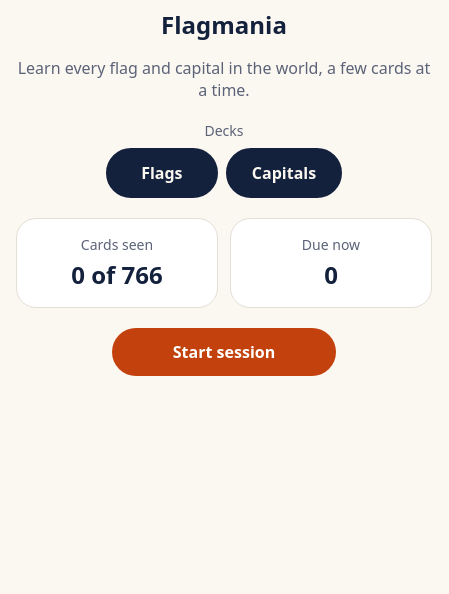
keyboard › waits for the learner after a key or button answer, even a right one
Click the button "Start session" at [224, 352], box [112,328,336,376]
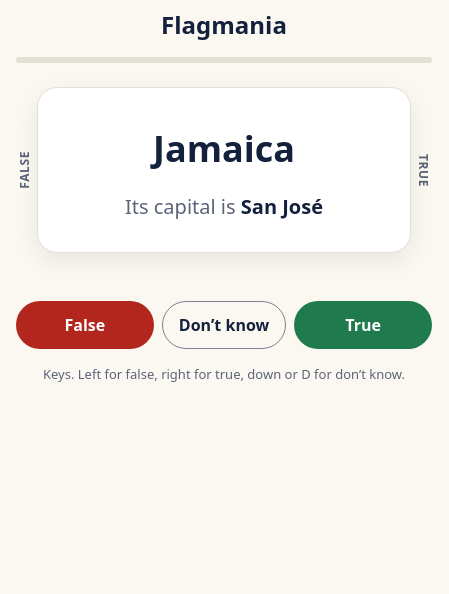
Expected: the button "True" is shown, [294,301,432,349]
Click the button "False" at [85, 325], box [16,301,154,349]
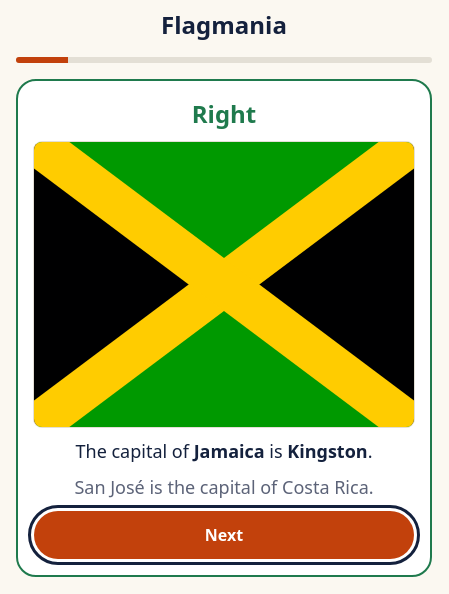
Expected: the heading "Right" is shown, [192,97,256,130]
Expected: the button "Next" is shown, [34,511,414,559]
